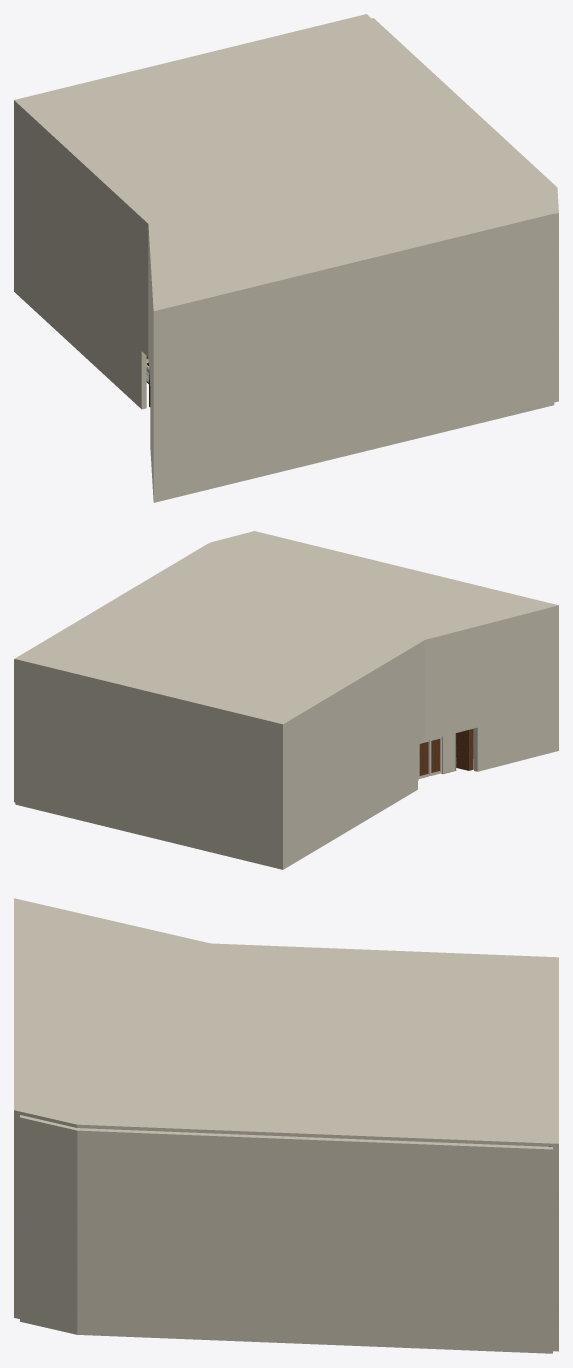
3 renders of one model, top to bottom at view 1: azimuth 30°, elevation 25°; view 2: azimuth 150°, elevation 25°; view 3: azimuth 270°, elevation 25°, orthographic. The views are drawn at different scales.
Visible parts, largest first — view 1: PavilionRoof, ForePartyWall, InnerAftPartyReturn, InnerForePartyReturn, HeldFrontageOpaqueEnclosure, ArrivalHeader; view 2: PavilionRoof, AftPartyWall, InnerAftPartyReturn, InnerForePartyReturn, ArrivalHeader, ArrivalForePocket, HeldFrontageOpaqueEnclosure, PrivateEntry_01_ENTRY_PocketSkin_-1_1; view 3: HeldFrontageOpaqueEnclosure, PavilionRoof, ForePartyWall, AftPartyWall.
Part boxes in pixels (bbox=[...]): PavilionRoof: bbox=[14, 14, 554, 314]; ForePartyWall: bbox=[153, 217, 554, 502]; InnerAftPartyReturn: bbox=[14, 105, 146, 409]; InnerForePartyReturn: bbox=[150, 262, 158, 502]; HeldFrontageOpaqueEnclosure: bbox=[372, 18, 558, 402]; ArrivalHeader: bbox=[141, 221, 150, 385]; PavilionRoof: bbox=[15, 531, 558, 726]; AftPartyWall: bbox=[15, 661, 285, 869]; InnerAftPartyReturn: bbox=[279, 646, 417, 869]; InnerForePartyReturn: bbox=[474, 607, 558, 771]; ArrivalHeader: bbox=[418, 628, 477, 744]; ArrivalForePocket: bbox=[456, 728, 473, 770]; HeldFrontageOpaqueEnclosure: bbox=[14, 543, 209, 802]; PrivateEntry_01_ENTRY_PocketSkin_-1_1: bbox=[442, 733, 456, 773]; HeldFrontageOpaqueEnclosure: bbox=[20, 1115, 552, 1353]; PavilionRoof: bbox=[14, 898, 558, 1147]; ForePartyWall: bbox=[14, 1113, 19, 1318]; AftPartyWall: bbox=[553, 1147, 558, 1351].
Size of the model in its own units: 23.55 by 9.2 by 21.88.
192 materials, 185 textured.
